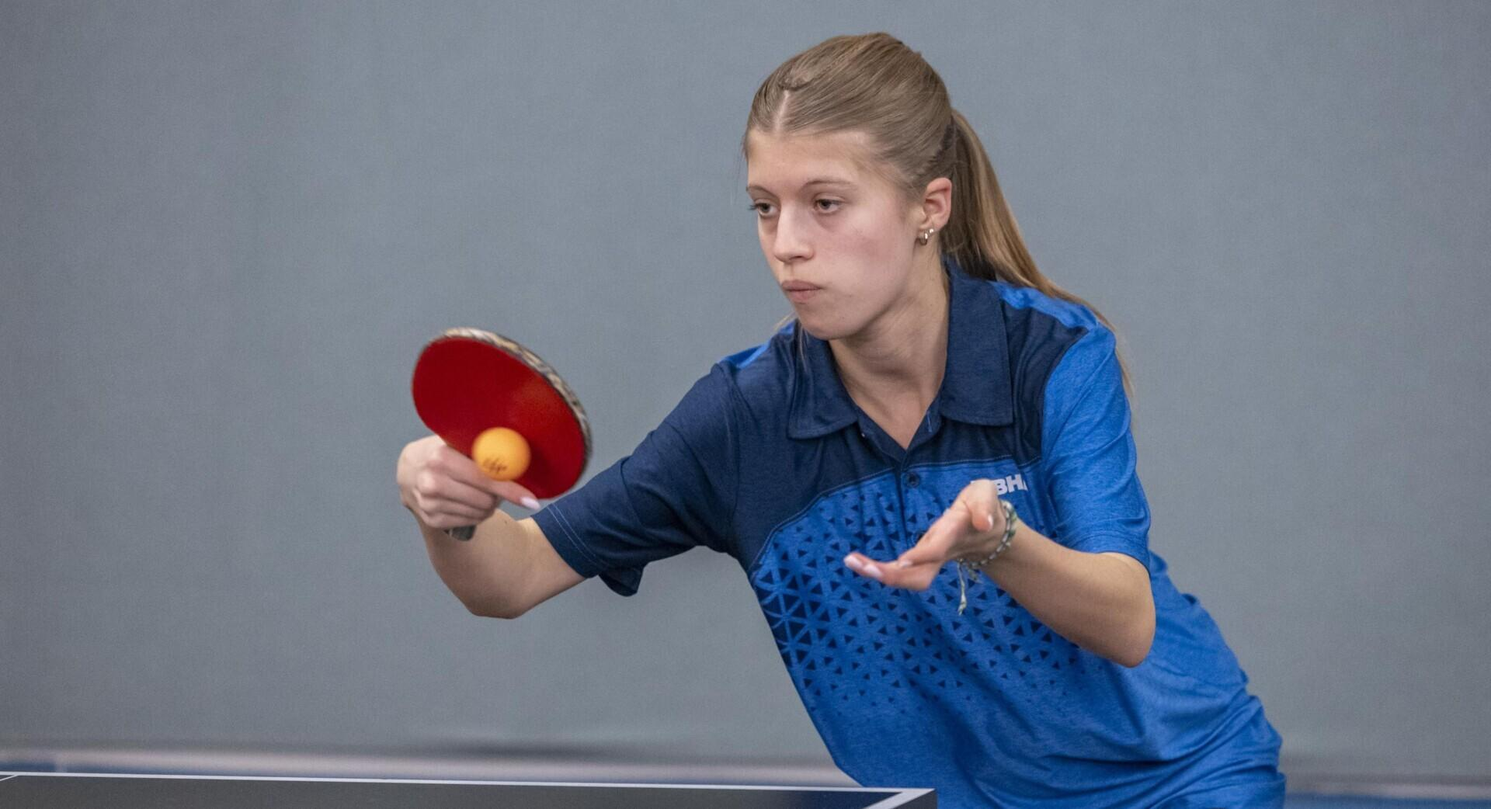ball_pingpong: (468, 426, 530, 485)
